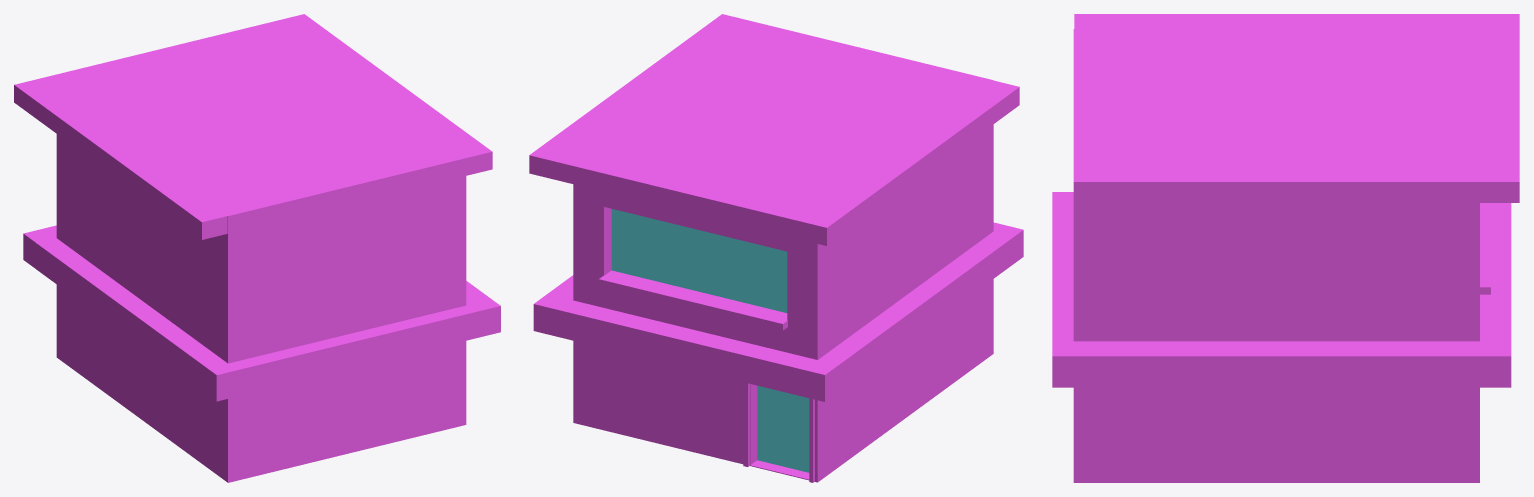
The model's file is wafla2.fbx.
The picture shows the model from 3 angles, left to right: view 1: azimuth 30°, elevation 25°; view 2: azimuth 150°, elevation 25°; view 3: azimuth 270°, elevation 25°; orthographic projection. The views are drawn at different scales.
Visible parts, largest first — view 1: Куб.001; view 2: Куб.001, Куб.004, Куб.005; view 3: Куб.001.
Boxes of the visible parts, bbox=[...] form: Куб.001: bbox=[14, 14, 500, 482]; Куб.001: bbox=[529, 14, 1023, 482]; Куб.004: bbox=[611, 209, 787, 312]; Куб.005: bbox=[757, 385, 809, 472]; Куб.001: bbox=[1052, 14, 1519, 482].
Size of the model in its own units: 46.19 by 40.56 by 54.35.
